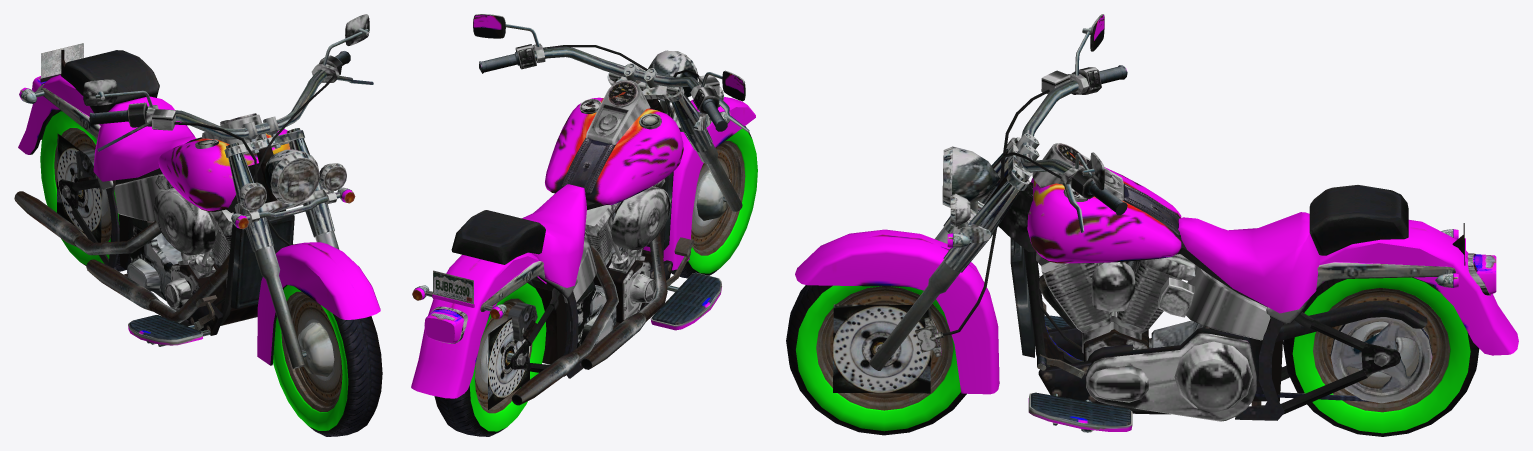
3 views of the same model, side by side, from view 1: azimuth 30°, elevation 25°; view 2: azimuth 150°, elevation 25°; view 3: azimuth 270°, elevation 25° (orthographic). The views are drawn at different scales.
Bounding box in the file's own units: 236 × 245 × 475.
Materials: 6 (6 with a texture image).
